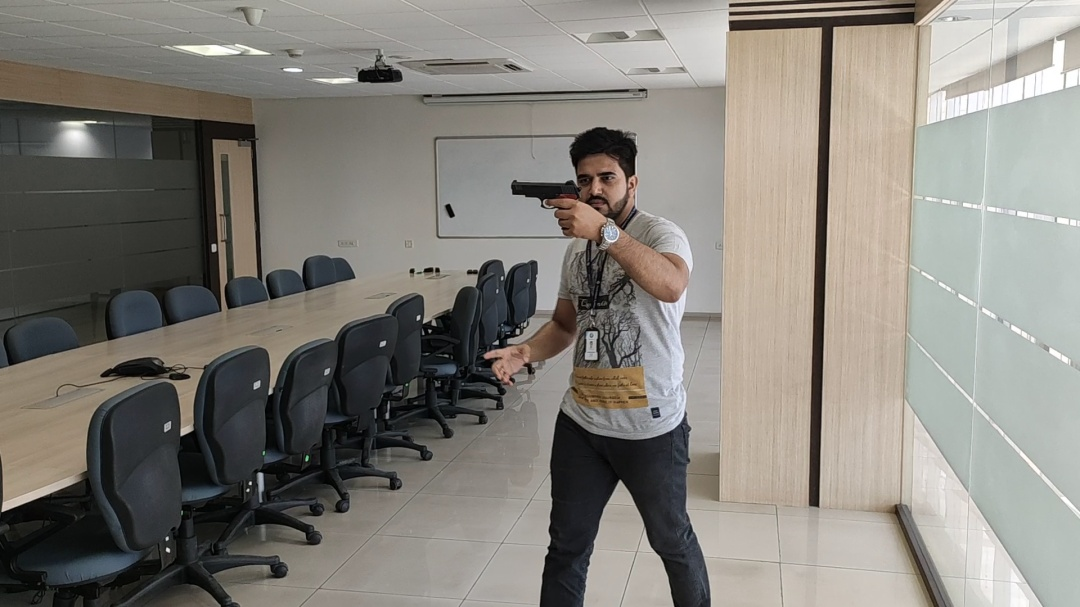gun: (507, 176, 578, 211)
